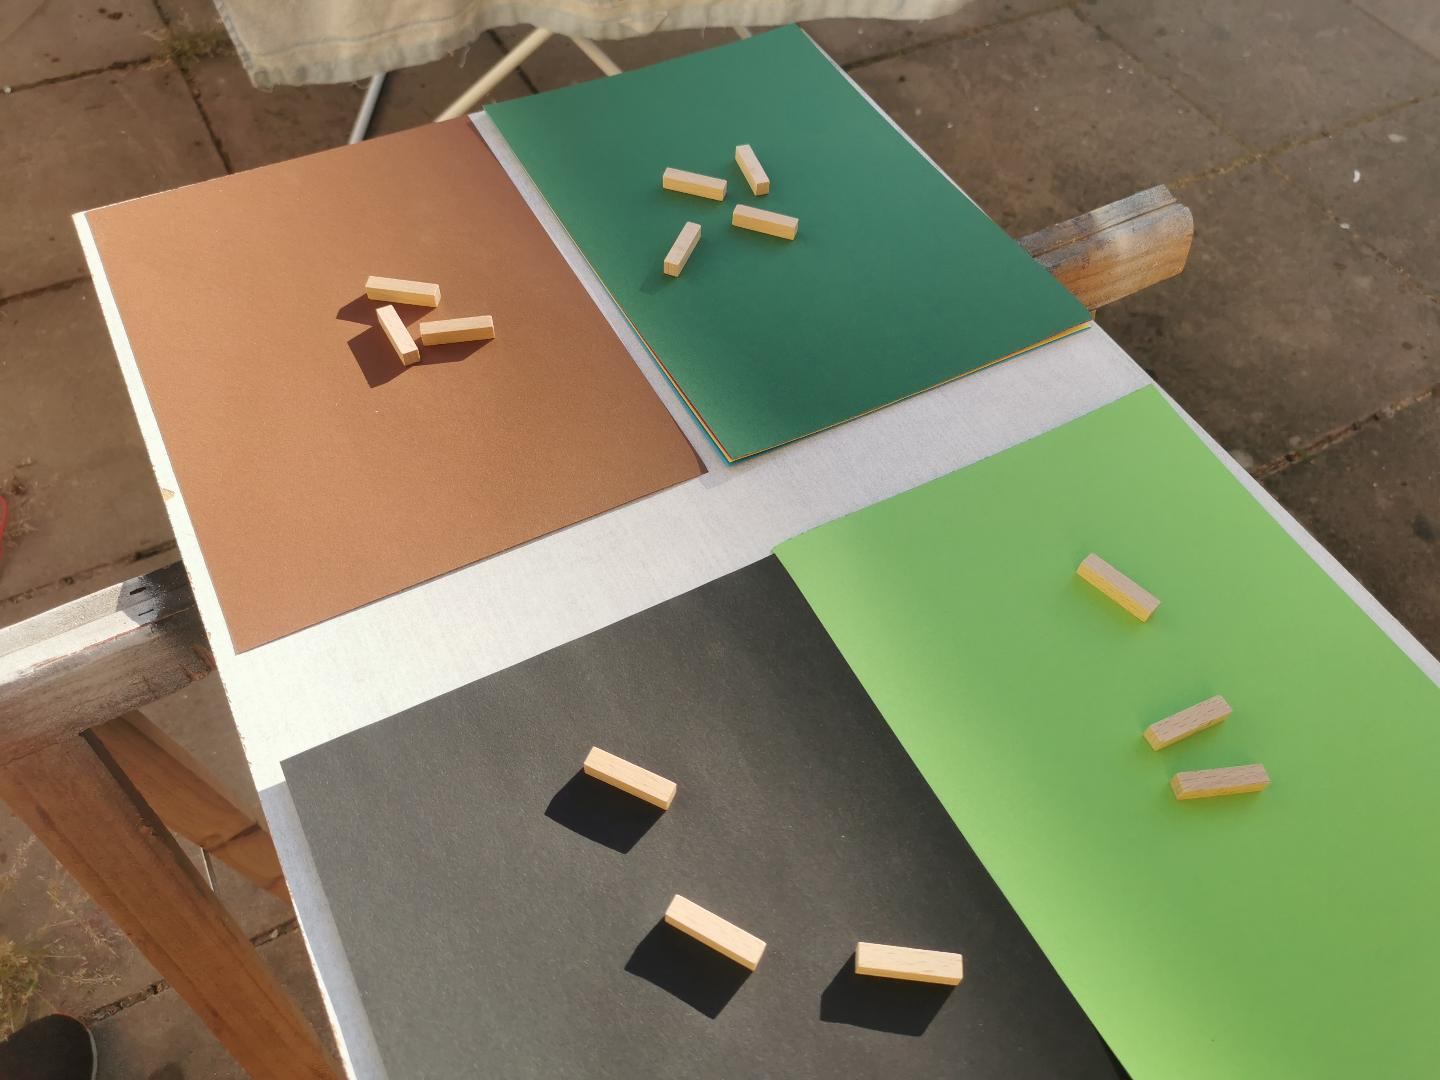jenga: (664, 894, 765, 970), (582, 748, 678, 810), (1077, 554, 1159, 622), (1145, 695, 1232, 751), (855, 942, 962, 984), (1170, 765, 1268, 799), (377, 304, 419, 366), (366, 276, 442, 307), (419, 315, 495, 346), (731, 205, 799, 239), (734, 143, 771, 197), (664, 169, 728, 200), (664, 222, 700, 276)
